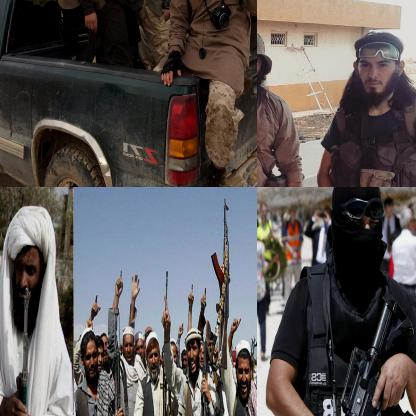rifle: (308, 290, 416, 415), (209, 195, 230, 370), (7, 285, 35, 415)
